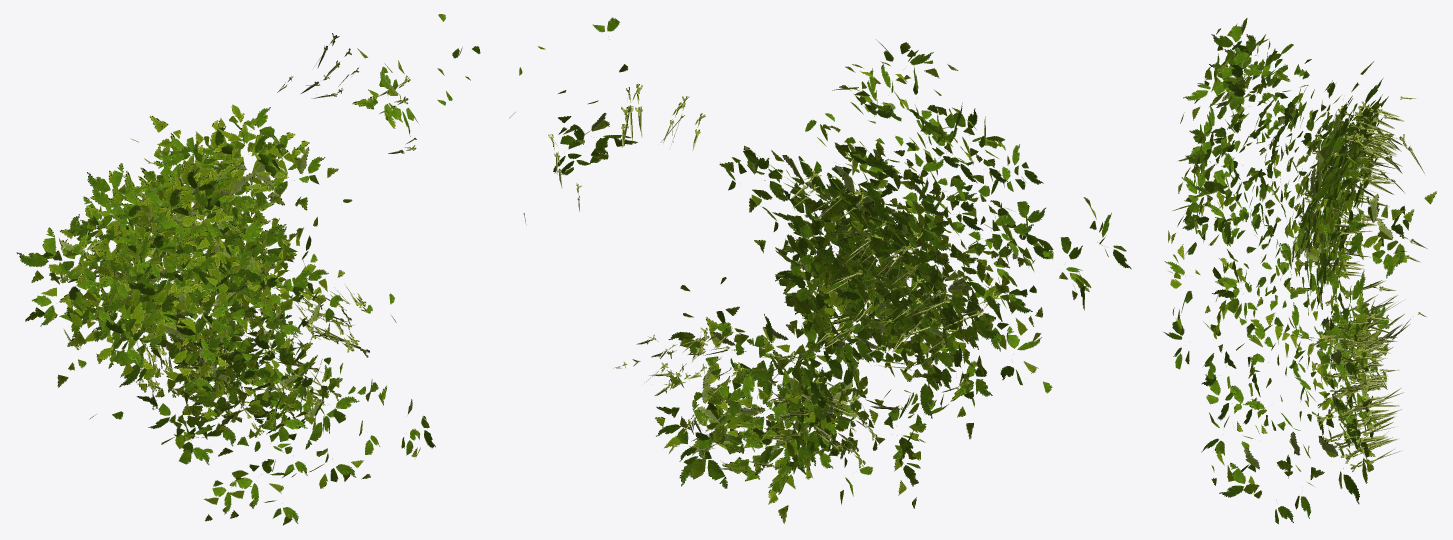
Rendered from plant_cover_1.glb.
3 renders of one model, left to right at view 1: azimuth 30°, elevation 25°; view 2: azimuth 150°, elevation 25°; view 3: azimuth 270°, elevation 25°, orthographic. The views are drawn at different scales.
Parts seen in each view (by area): view 1: Object_10; view 2: Object_10; view 3: Object_10.
Boxes of the visible parts, left/top/right/bottom form: Object_10: left=16, top=14, right=480, bottom=525; Object_10: left=509, top=17, right=1131, bottom=523; Object_10: left=1163, top=18, right=1436, bottom=524.
Bounding box in the file's own units: 4.59 × 3.83 × 2.16.
1 material, 1 textured.
